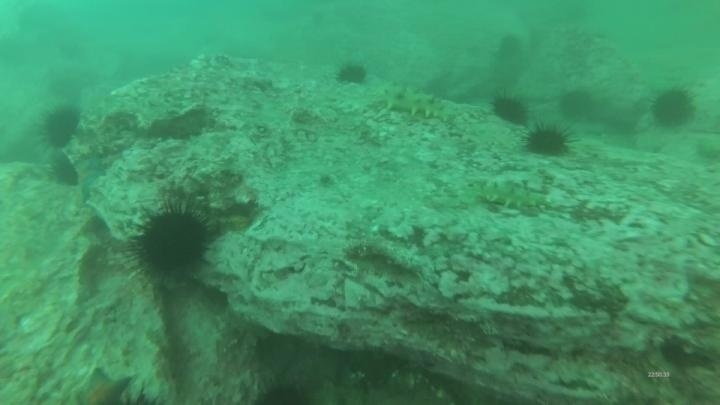echinus: (130, 203, 214, 282), (649, 85, 697, 130), (39, 103, 83, 150), (522, 123, 573, 159), (253, 378, 314, 405), (489, 92, 531, 127), (556, 87, 597, 122), (48, 154, 81, 189), (334, 60, 370, 88), (495, 32, 524, 61)
holothurian: (373, 80, 456, 124), (474, 177, 550, 216)
starfish: (72, 365, 135, 404), (74, 153, 108, 202)
